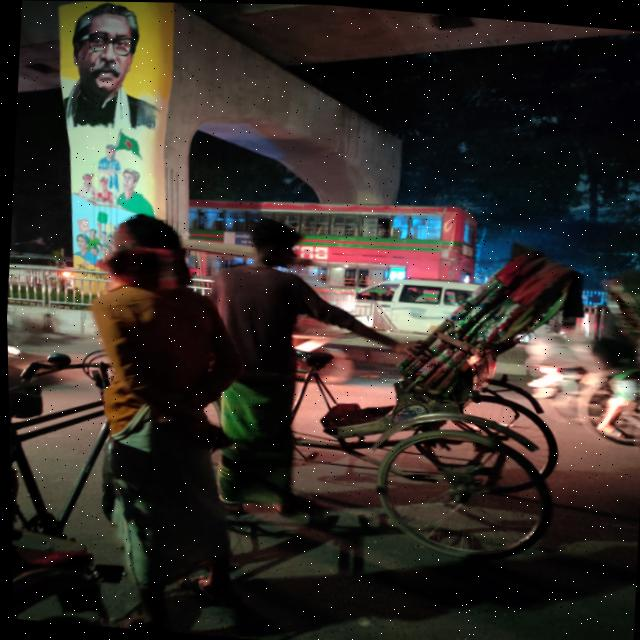rikshaw: (16, 176, 574, 559)
